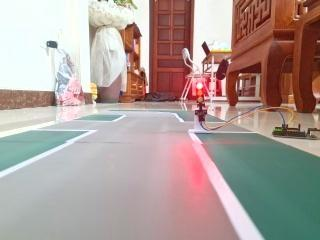red: (190, 75, 210, 111)
